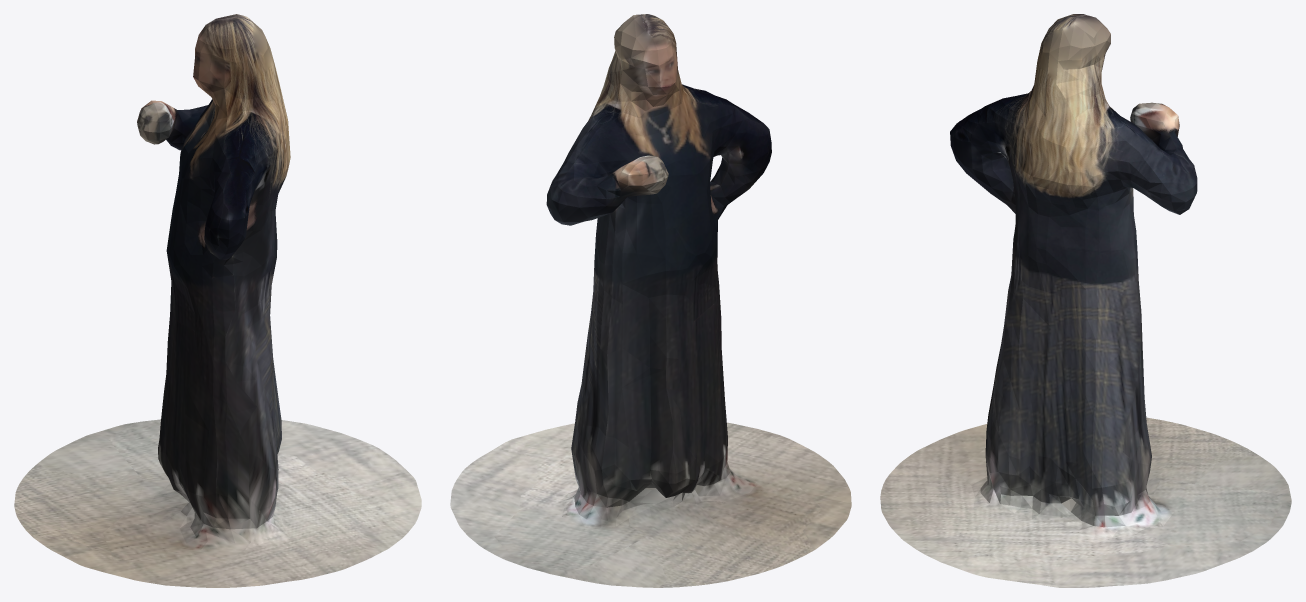
Rendered from mbo_friends_Emma.glb.
3 renders of one model, left to right at view 1: azimuth 30°, elevation 25°; view 2: azimuth 150°, elevation 25°; view 3: azimuth 270°, elevation 25°, orthographic. The views are drawn at different scales.
Size of the model in its own units: 1.25 by 1.65 by 1.25.
Materials: 1 (1 with a texture image).
